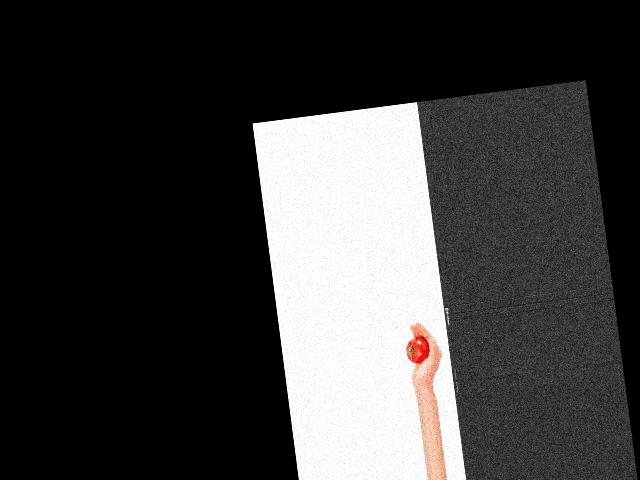tomato: (405, 337, 431, 365)
